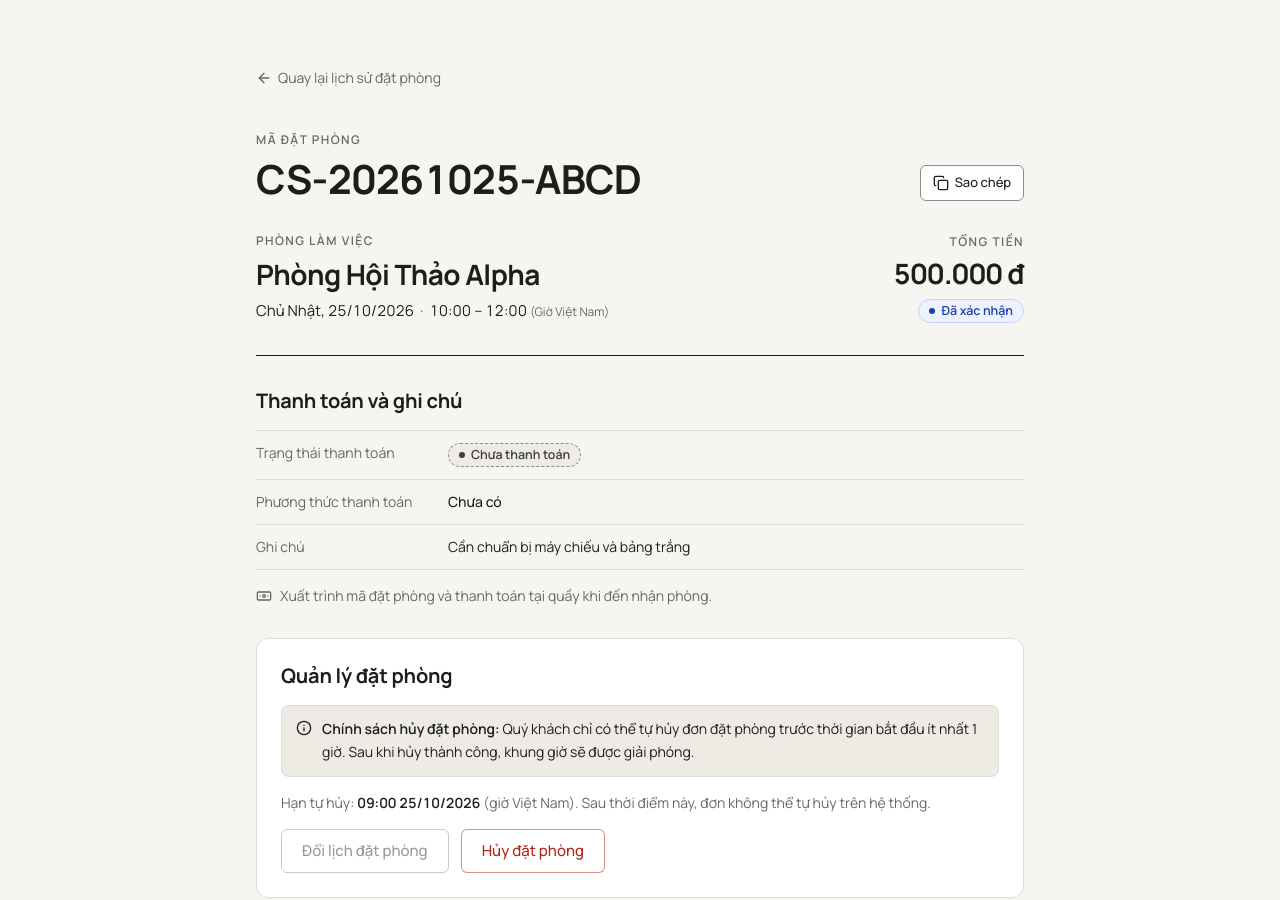
it: BookingDetailPage › Customer Booking Cancellation (CWB-26) › displays conflict banner and allows refresh when API returns 409 BOOKING_STATE_CONFLICT
Step 1. Click the button with test id "cancel-booking-init-btn" → coordinates (533, 851), box x1=461 y1=829 x2=605 y2=873
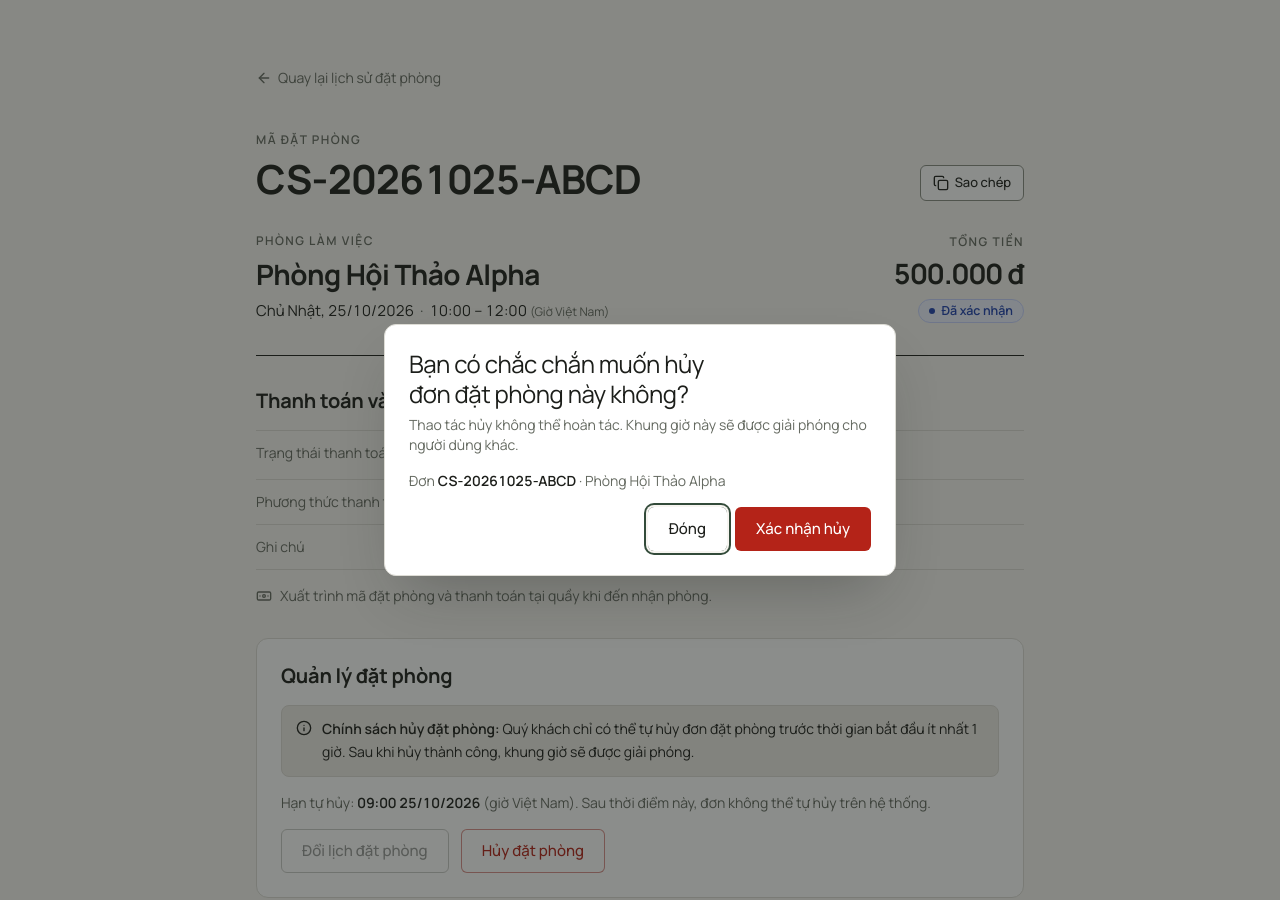
Step 2. Click the button with test id "confirm-cancel-btn" → coordinates (803, 529), box x1=735 y1=507 x2=871 y2=551
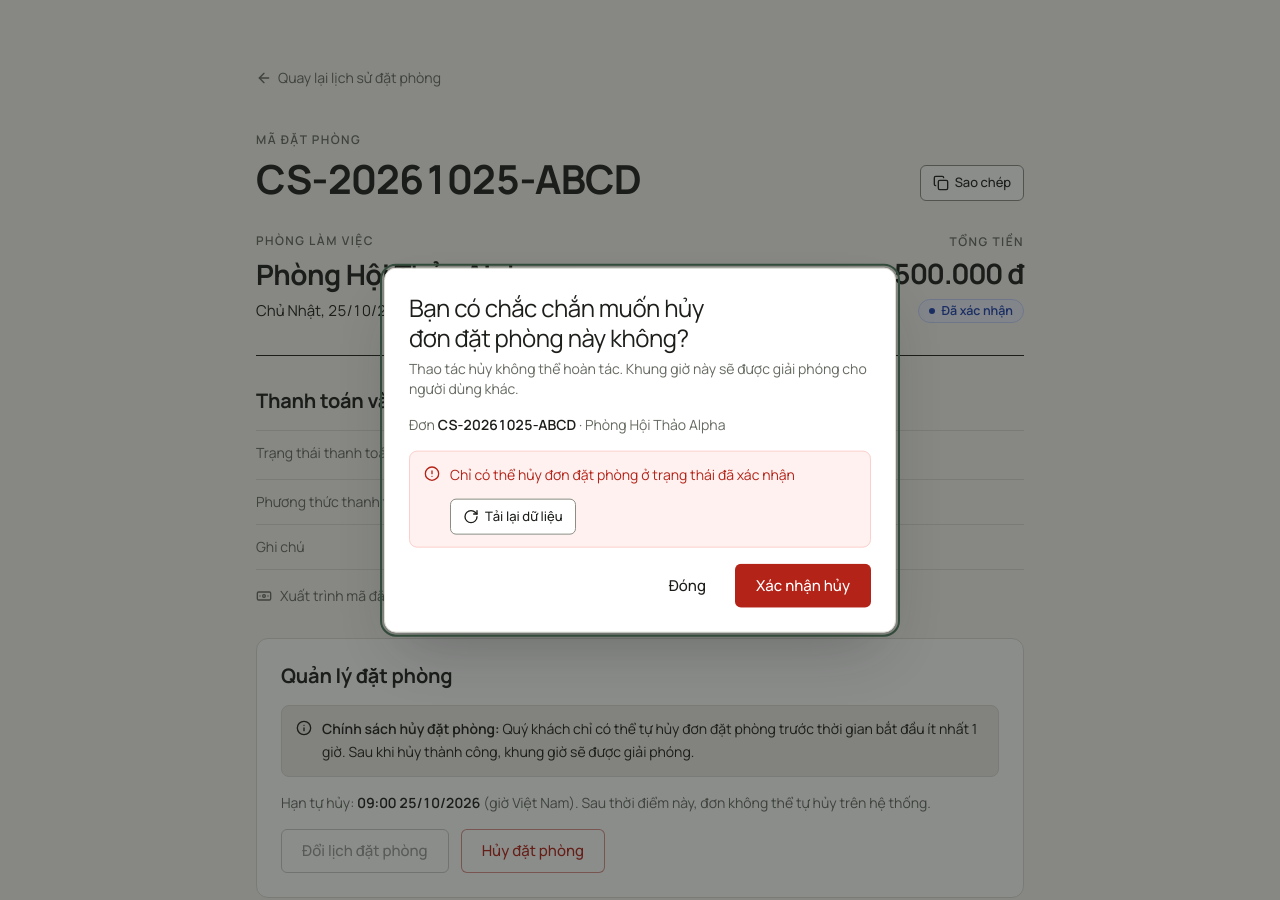
Now the message "Chỉ có thể hủy đơn đặt phòng ở trạng thái đã xác nhận Tải lại dữ liệu" is shown, box x1=409 y1=451 x2=871 y2=547
Now the button with test id "cancel-conflict-refresh-btn" is shown
Step 3. Click the button with test id "cancel-conflict-refresh-btn" → coordinates (513, 516), box x1=450 y1=498 x2=576 y2=534
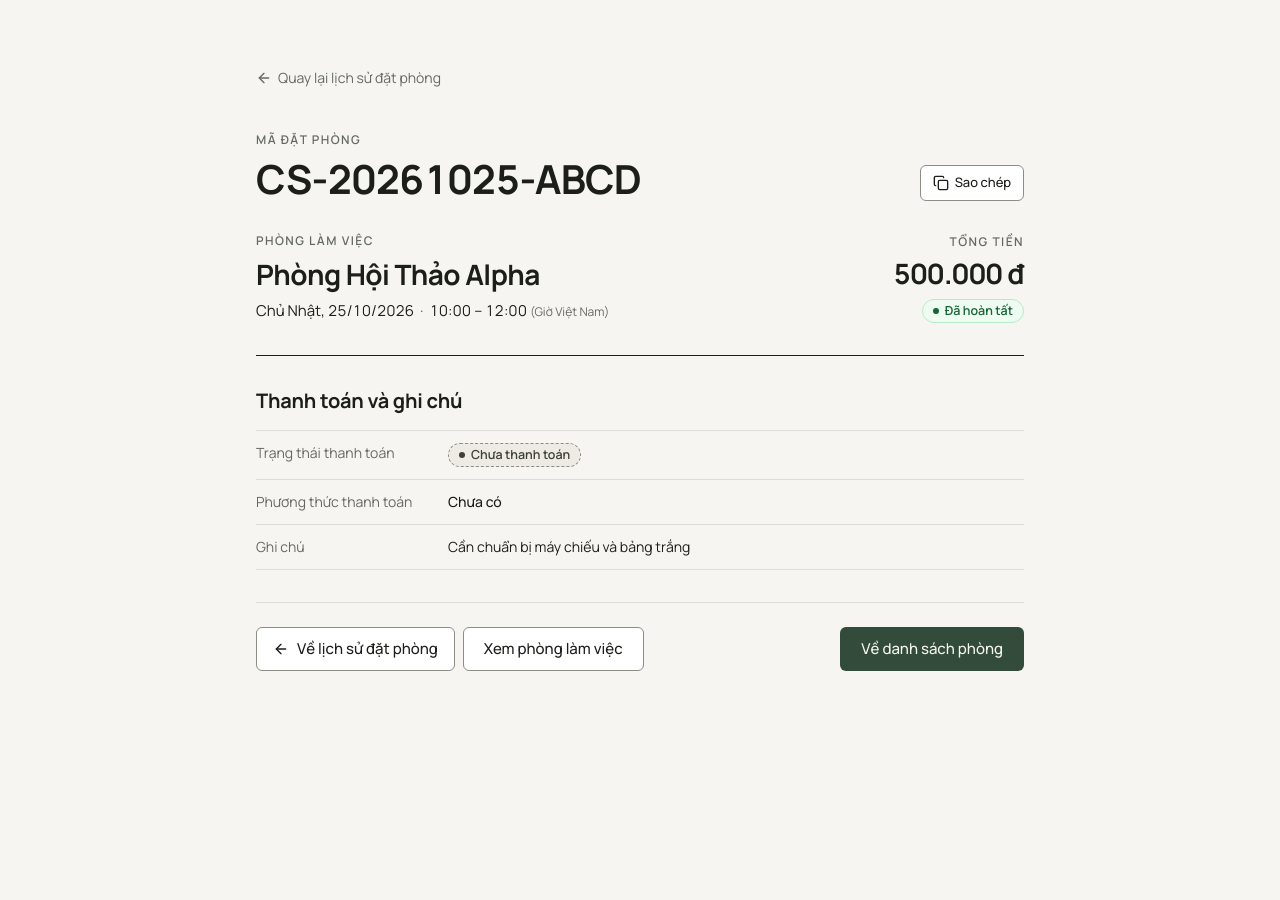
Now the element with test id "booking-status-badge" reads "Đã hoàn tất", box x1=945 y1=302 x2=1013 y2=319
Now the message with test id "cancel-error-banner" is gone
Now the button with test id "cancel-conflict-refresh-btn" is gone
